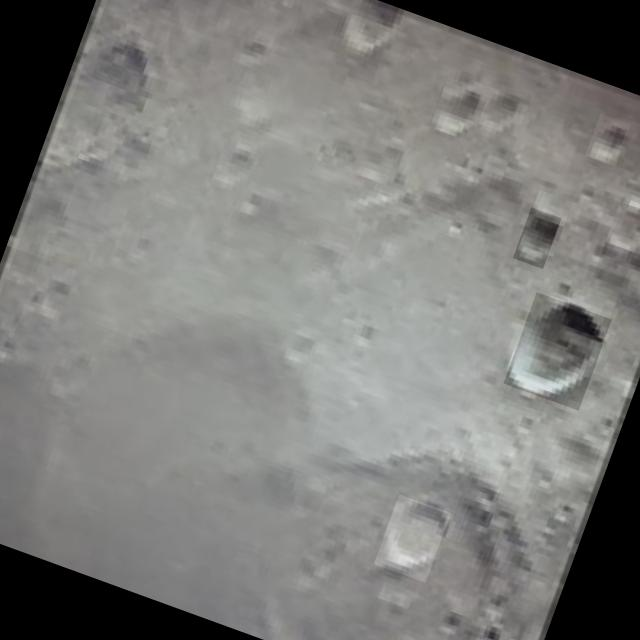crater: (504, 292, 612, 411), (374, 494, 451, 582), (512, 208, 562, 270), (428, 82, 481, 138), (585, 114, 631, 166)
